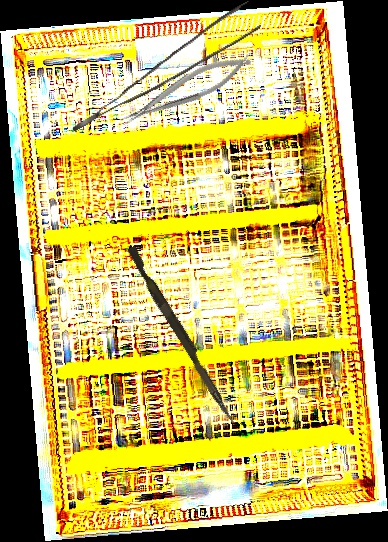Needle Holder: (114, 47, 257, 132)
Pusher: (122, 245, 242, 425)
Tissue Forceps: (56, 0, 267, 132)
